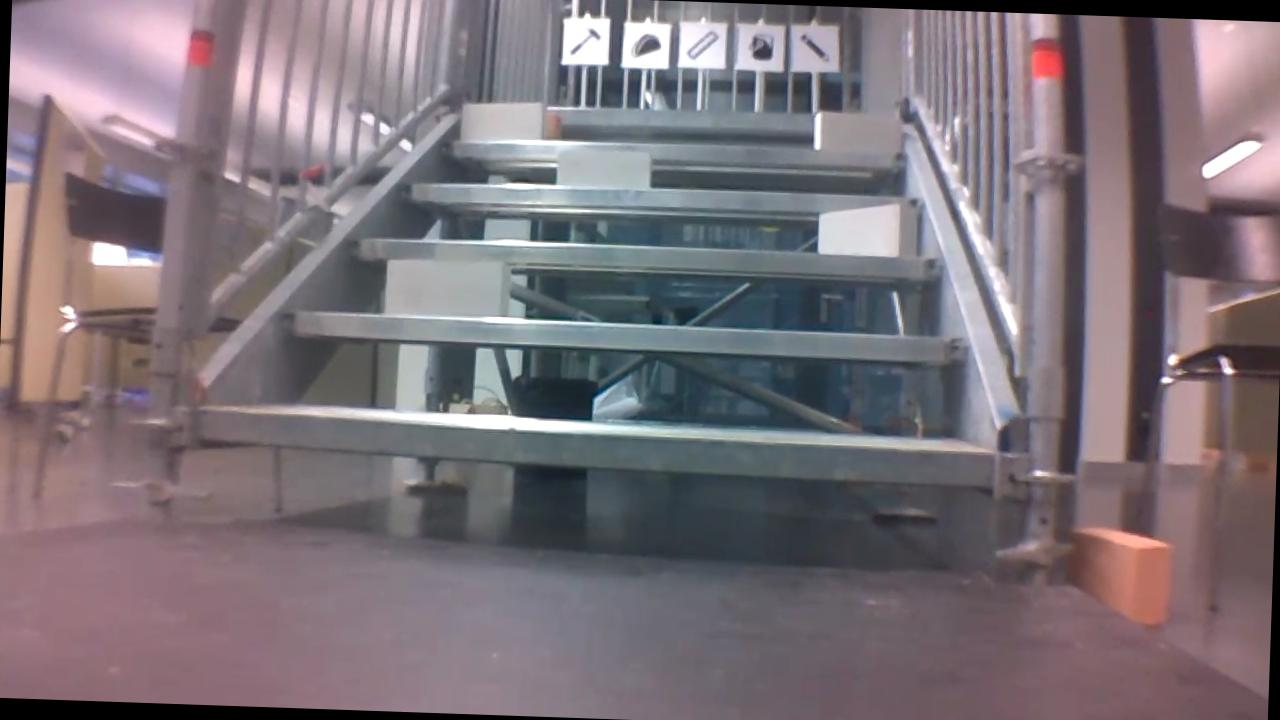brick: (385, 257, 511, 316), (817, 202, 917, 256), (557, 147, 649, 187), (812, 110, 897, 150), (460, 101, 543, 140), (545, 115, 562, 137)
bucket: (744, 28, 776, 62)
edge: (198, 409, 991, 486), (281, 310, 966, 362), (351, 236, 940, 278), (394, 180, 923, 216), (440, 134, 909, 169), (453, 100, 896, 133)
hammer: (565, 22, 604, 60)
pencil: (795, 29, 837, 64)
ruler: (683, 27, 721, 62)
steps: (185, 84, 1010, 502)
taco: (625, 25, 668, 62)
